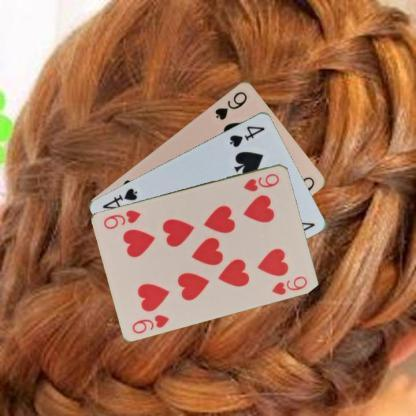4s: (226, 123, 266, 149)
9h: (129, 312, 171, 334), (240, 170, 281, 192)
9s: (212, 88, 248, 122)
